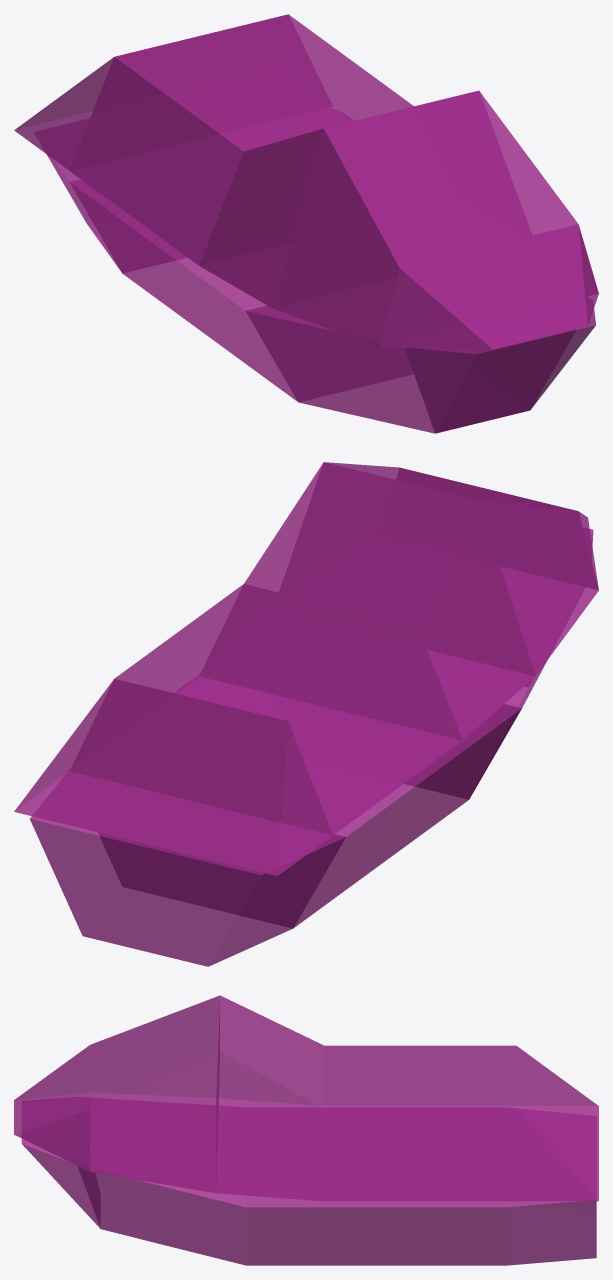
The model's file is SM_Veh_Jetski_01_Collision.fbx.
3 renders of one model, top to bottom at view 1: azimuth 30°, elevation 25°; view 2: azimuth 150°, elevation 25°; view 3: azimuth 270°, elevation 25°, orthographic. The views are drawn at different scales.
Visible parts, largest first — view 1: SM_Veh_Jetski_01_Collision; view 2: SM_Veh_Jetski_01_Collision; view 3: SM_Veh_Jetski_01_Collision.
Boxes of the visible parts, <box> form: SM_Veh_Jetski_01_Collision: <box>14,14,598,433</box>; SM_Veh_Jetski_01_Collision: <box>14,462,598,966</box>; SM_Veh_Jetski_01_Collision: <box>14,995,598,1265</box>.
Size of the model in its own units: 131 by 129 by 323.
